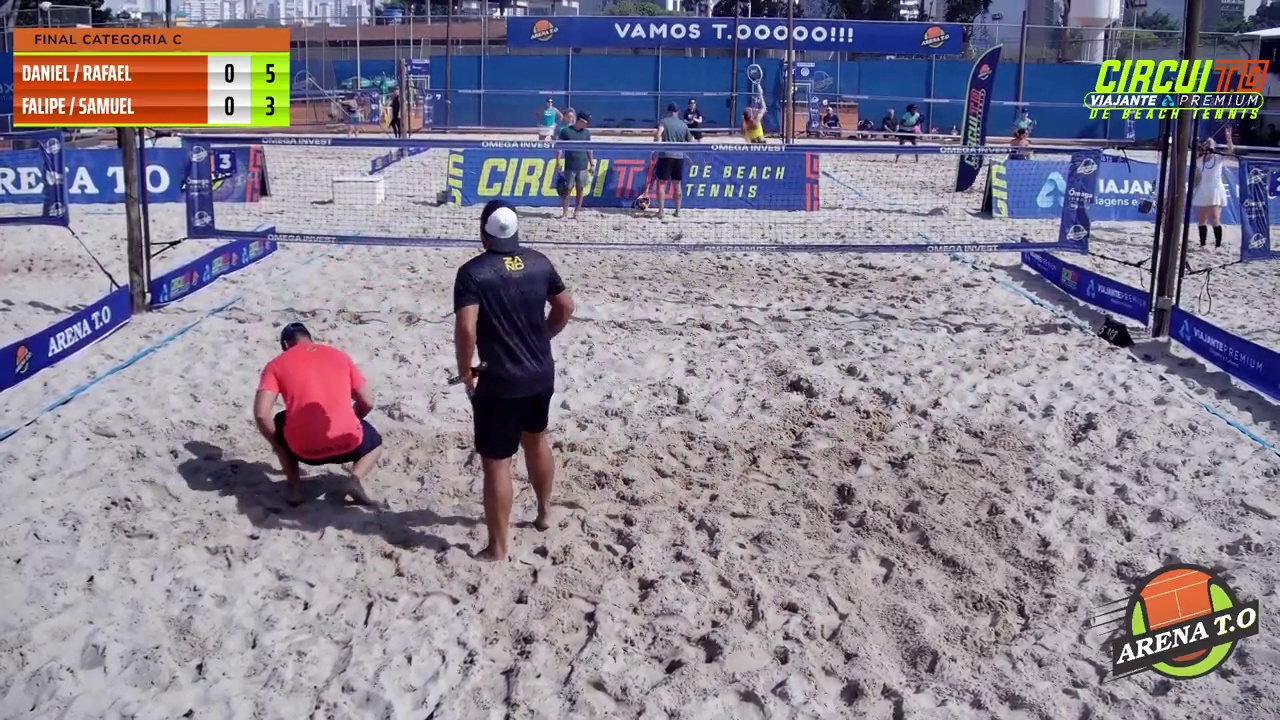court_line: (640, 0, 823, 487)
